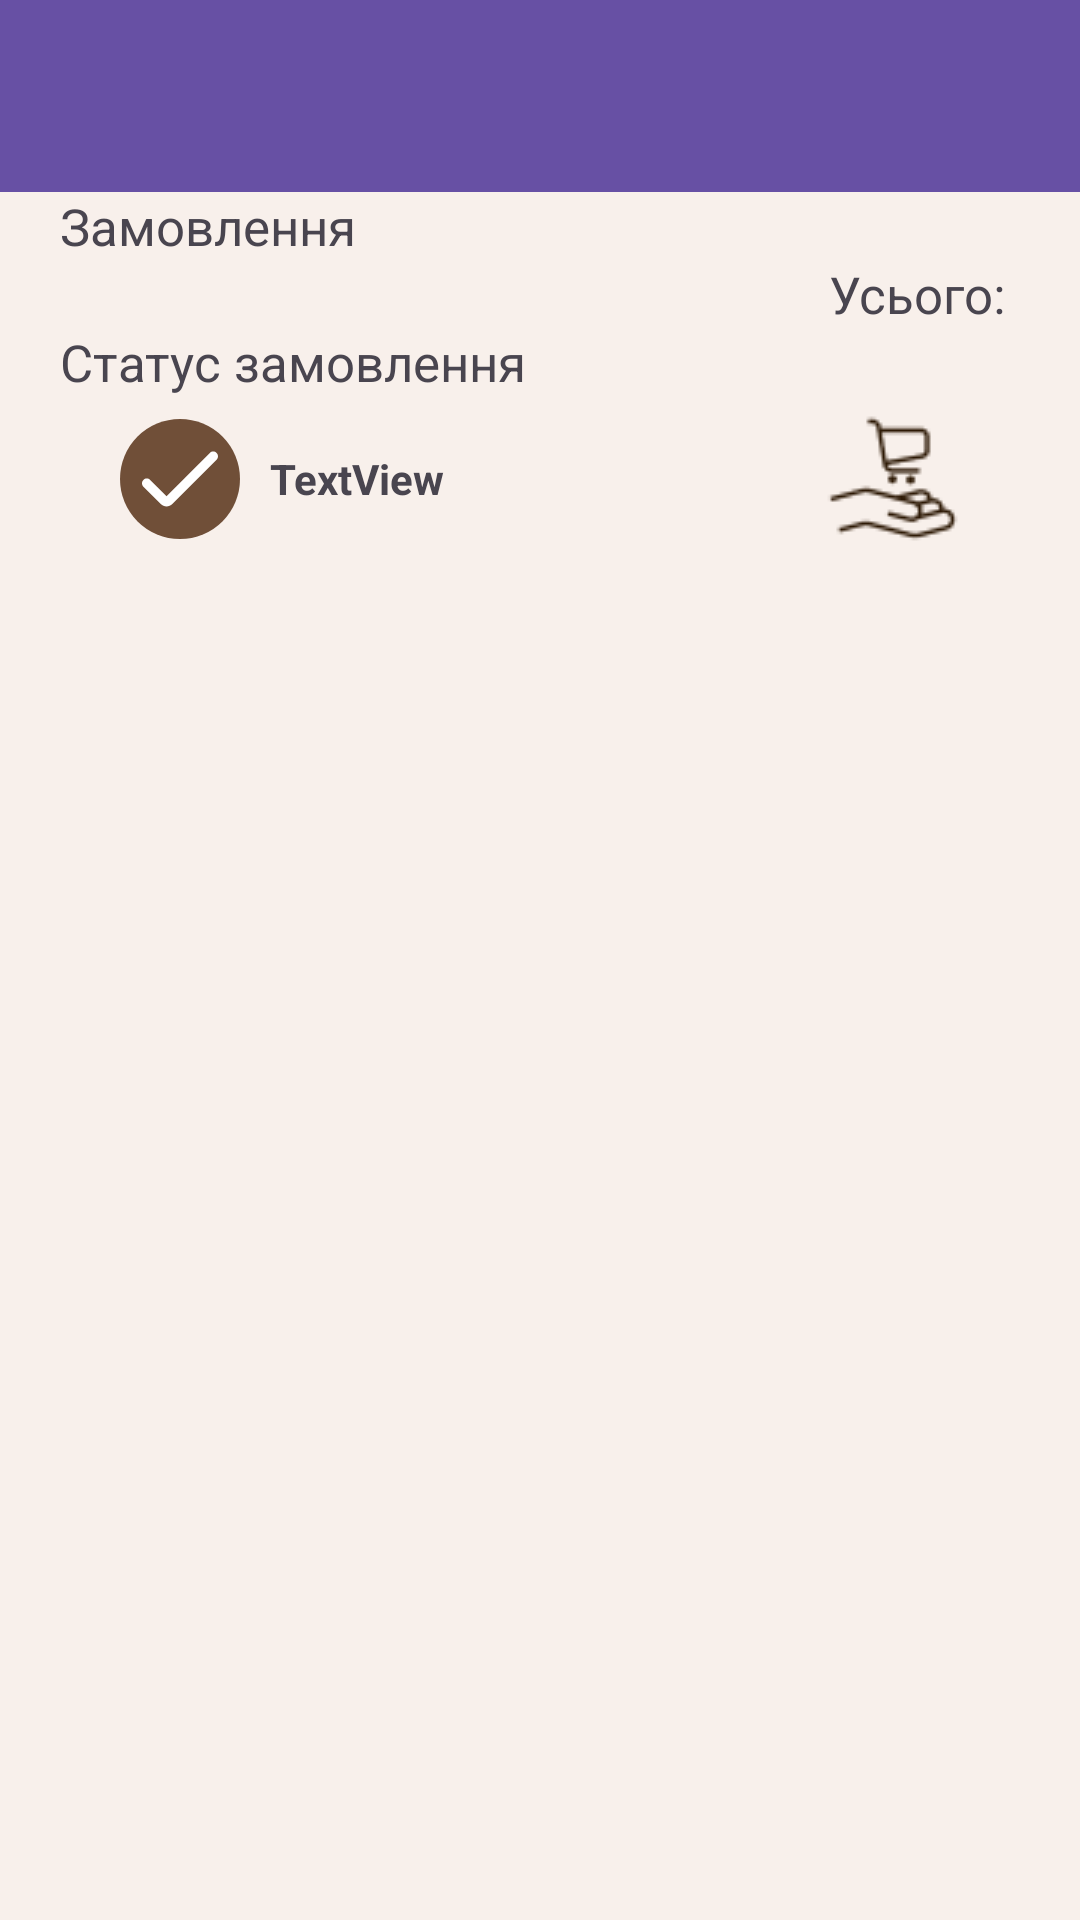

Point at icon controls on the screen. Image size 1080px x 1920px, points as (x,y).
circle: (180,479)
